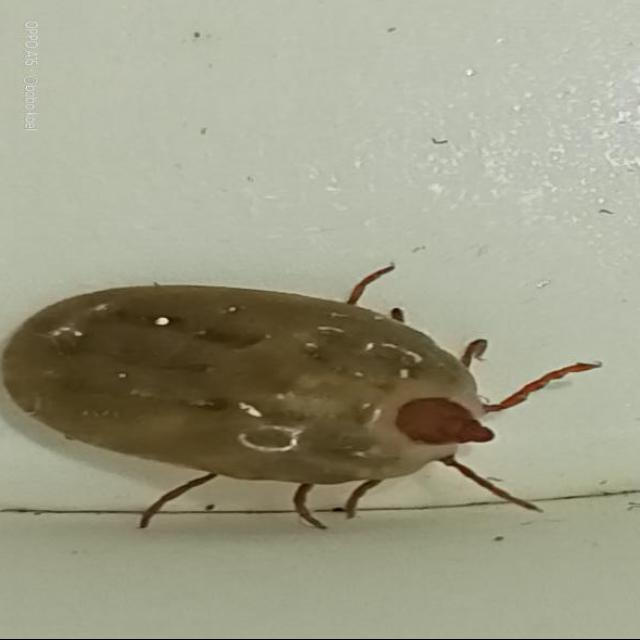Rhipicephalus Sanguineus-F-Fed: (0, 270, 602, 534)
